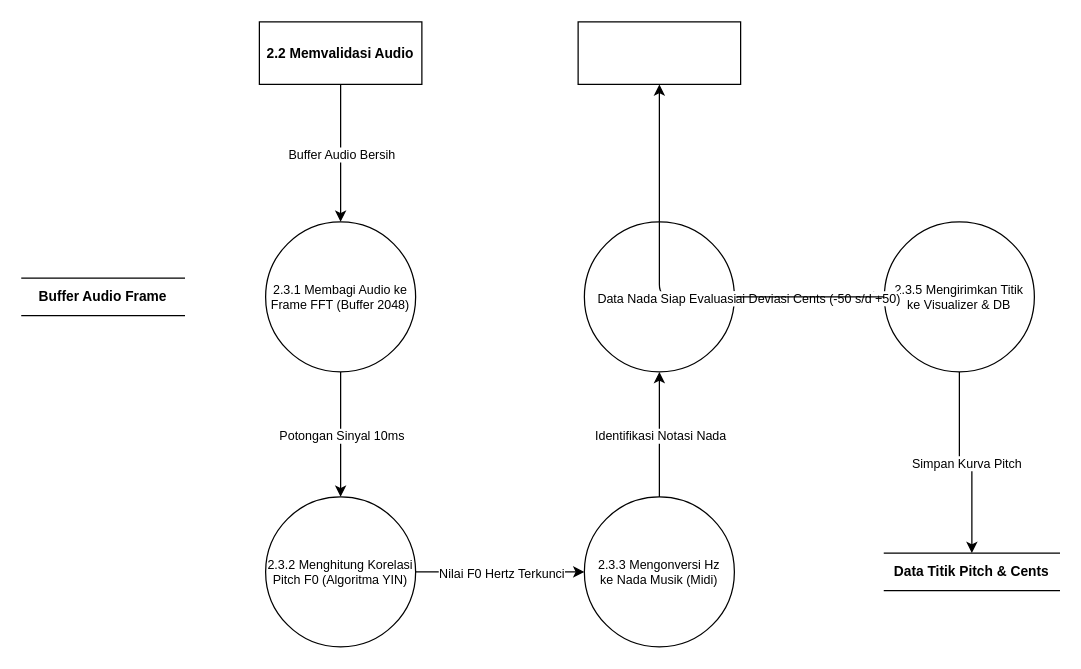
This 1081x669 diagram has some shape labels left out. The shapes that lost their labels are listed below. From the top down, each one's box as (x1, y1, x2, y2) in pixels, then its label:
(577, 21, 741, 84): 2.4 Deteksi Nada Fals
(583, 221, 734, 372): 2.3.4 Menghitung Selisih Deviasi Cents
